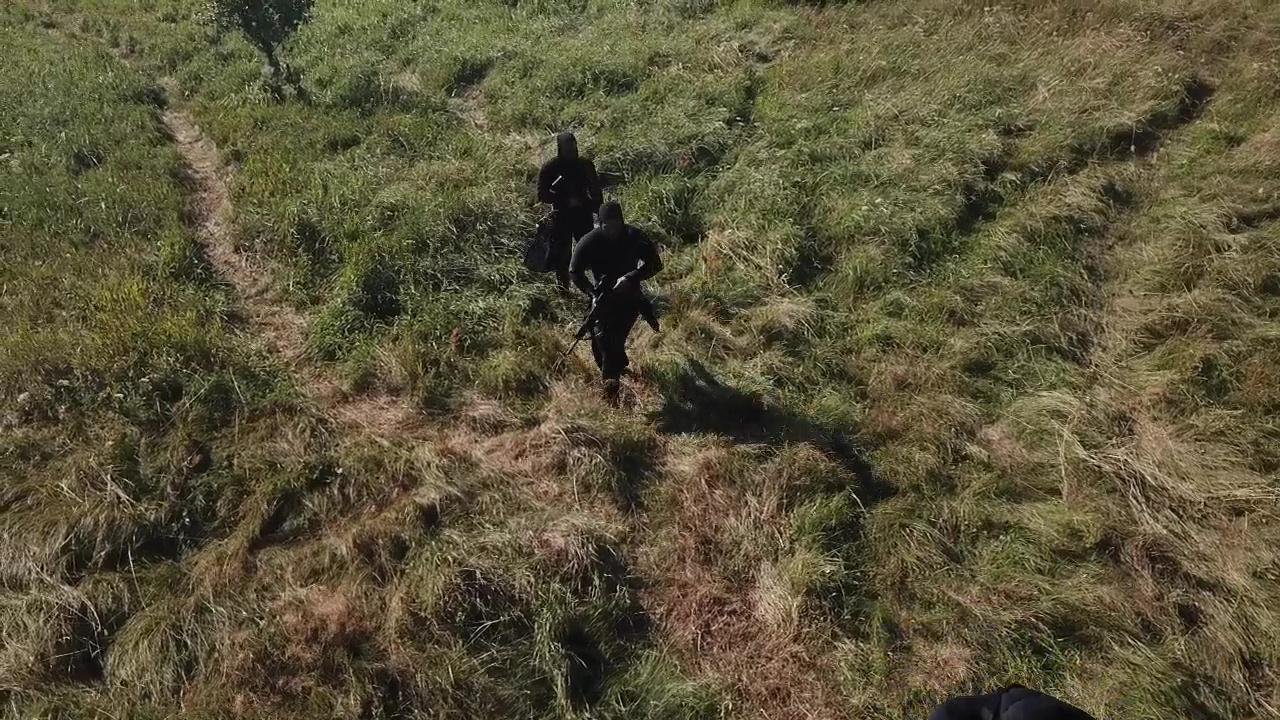Soldier: (557, 197, 658, 391), (525, 128, 608, 282)
